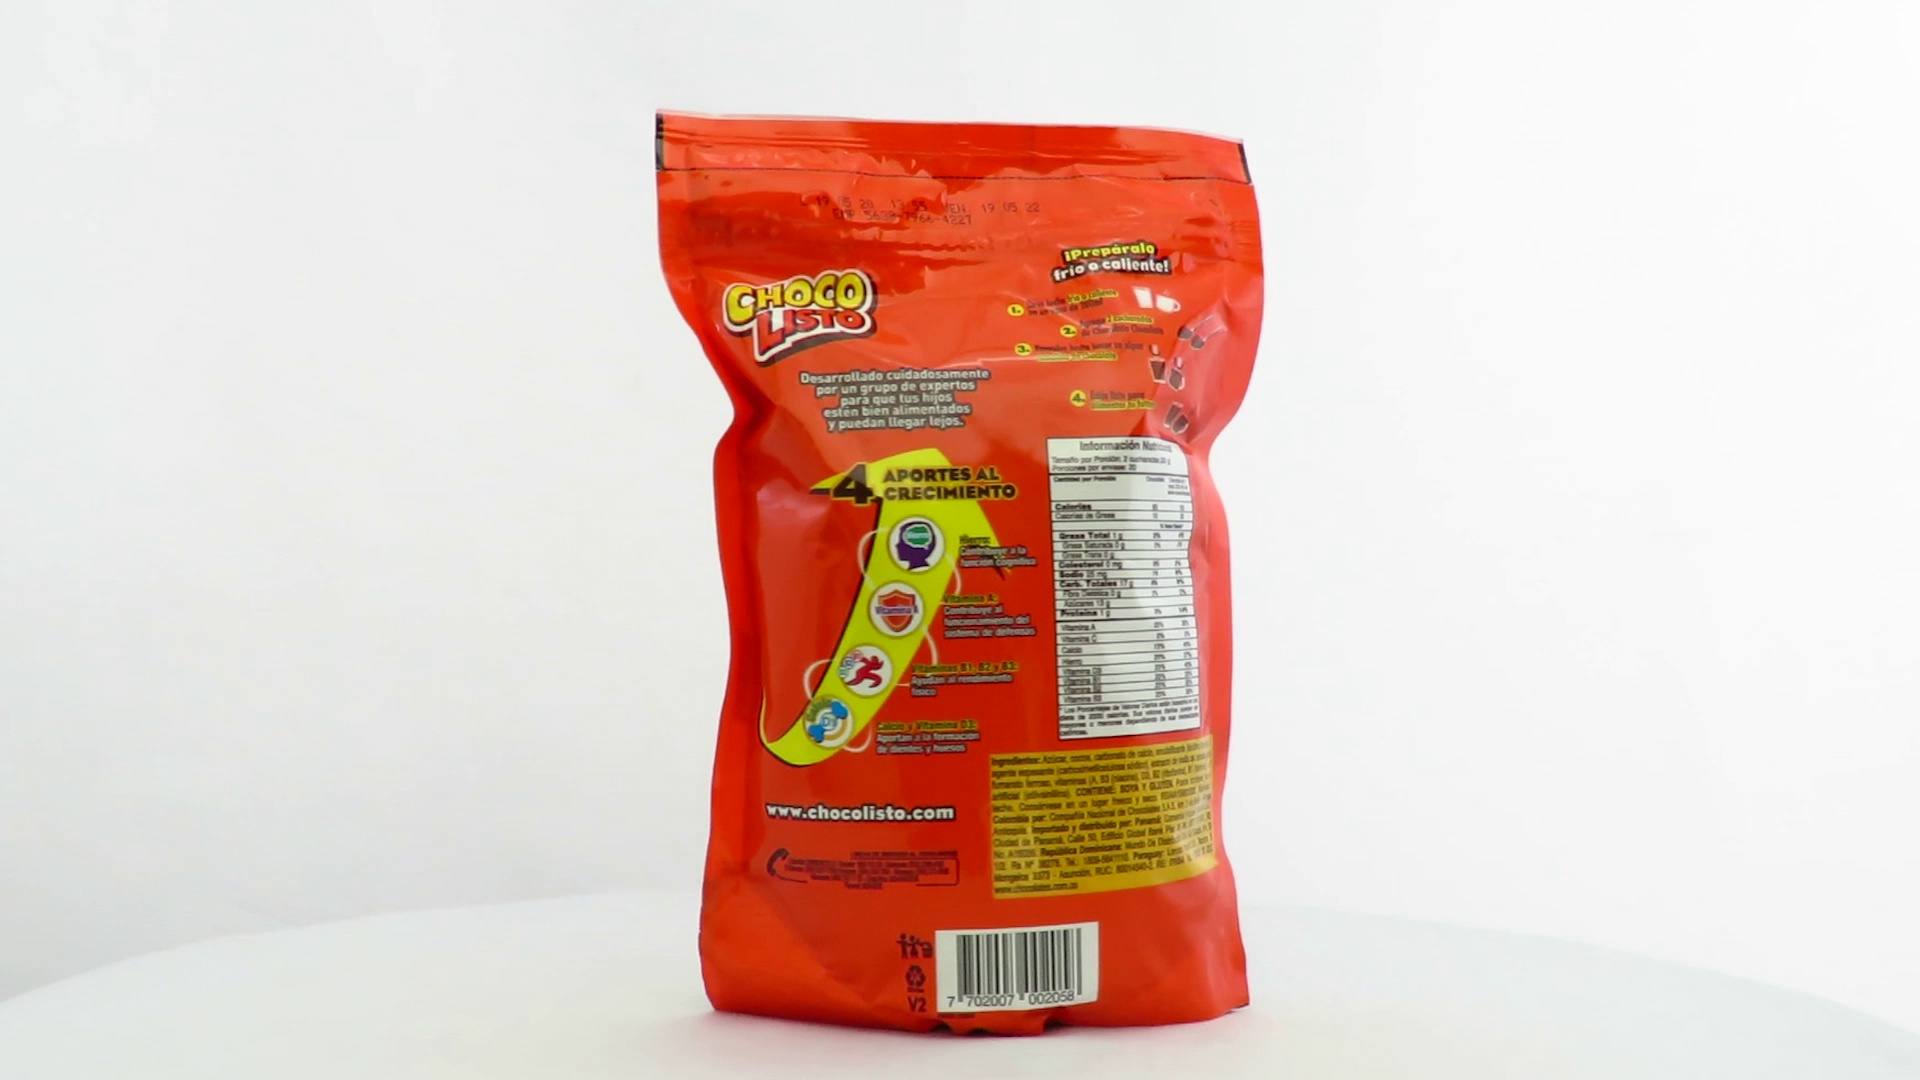COL0170103DYP40000: (649, 108, 1270, 1046)
